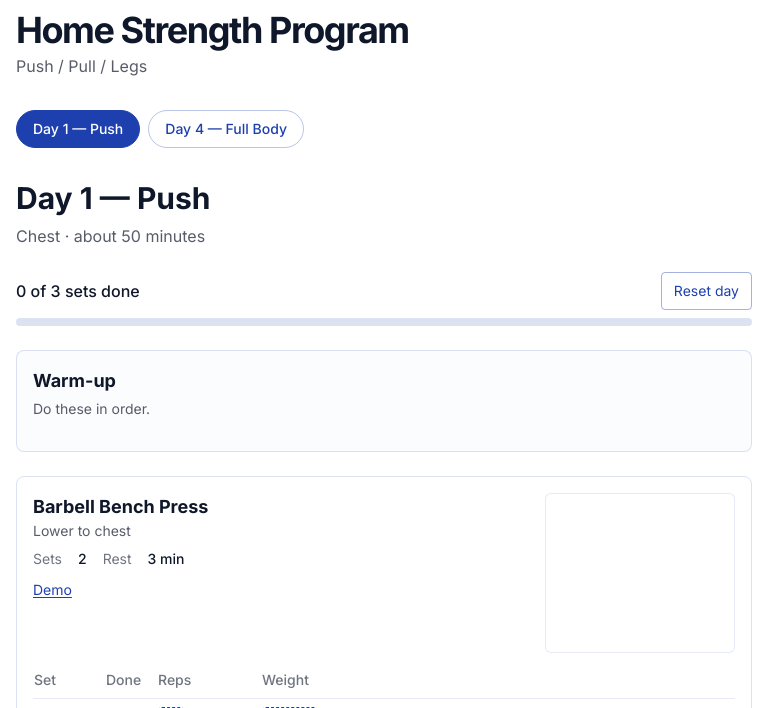
WorkoutApp › should switch to another day when its button is pressed
Click the button "Day 4 — Full Body" at {"x": 226, "y": 129}, box [148,110,304,148]
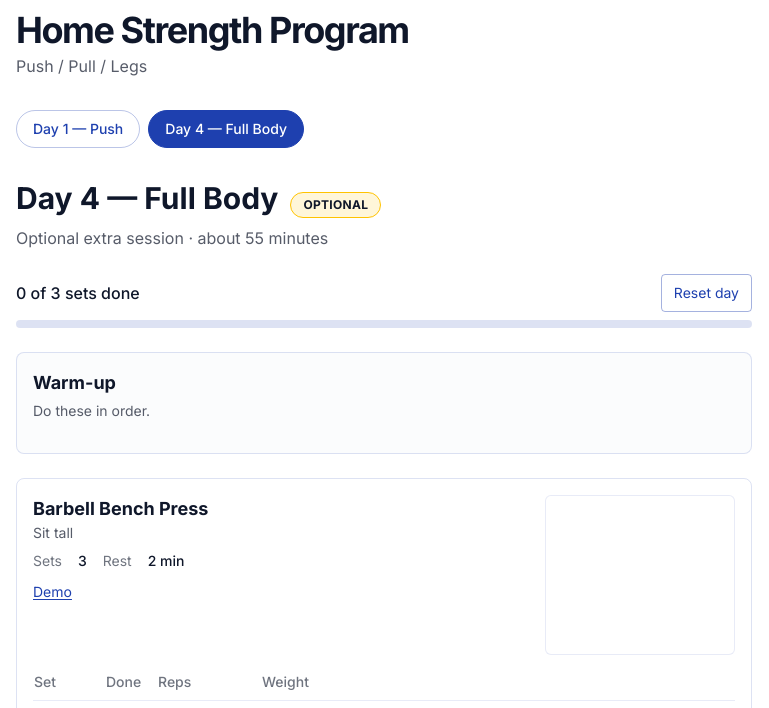
Expected: the heading "Day 4 — Full Body" is shown, [16,180,278,216]
